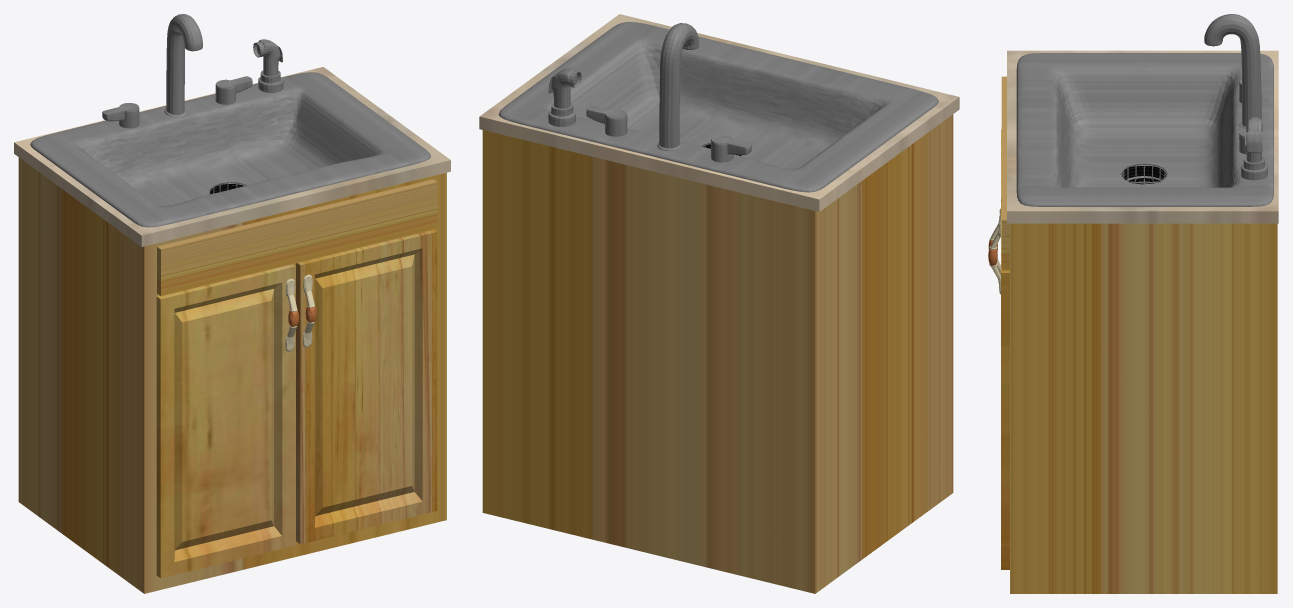
The model's file is sweethome3d-contributions-wood-cabinet-with-sink.glb.
3 renders of one model, left to right at view 1: azimuth 30°, elevation 25°; view 2: azimuth 150°, elevation 25°; view 3: azimuth 270°, elevation 25°, orthographic. The views are drawn at different scales.
Parts seen in each view (by area): view 1: PolyMesh_1_1, PolyMesh_1_6, PolyMesh_1_5, PolyMesh_2, Cube_3, PolyMesh_1_7, PolyMesh_1, PolyMesh_1_4, PolyMesh_2_1, PolyMesh_2_2; view 2: PolyMesh_1_1, PolyMesh_2, PolyMesh_1_7, PolyMesh_1, PolyMesh_1_4, PolyMesh_2_1, PolyMesh_2_2; view 3: PolyMesh_1_1, PolyMesh_2, PolyMesh_1_7, PolyMesh_1_6, PolyMesh_1, Cube_3, PolyMesh_1_4, Drain, PolyMesh_3, Draincover.
Part boxes in pixels (left/top/right/bottom): PolyMesh_1_1: left=18, top=157, right=446, bottom=593; PolyMesh_1_6: left=296, top=230, right=437, bottom=544; PolyMesh_1_5: left=156, top=264, right=295, bottom=578; PolyMesh_2: left=30, top=72, right=430, bottom=227; Cube_3: left=157, top=179, right=437, bottom=296; PolyMesh_1_7: left=14, top=67, right=450, bottom=246; PolyMesh_1: left=166, top=14, right=202, bottom=114; PolyMesh_1_4: left=253, top=39, right=282, bottom=76; PolyMesh_2_1: left=215, top=76, right=252, bottom=104; PolyMesh_2_2: left=102, top=103, right=139, bottom=128; PolyMesh_1_1: left=482, top=114, right=953, bottom=593; PolyMesh_2: left=498, top=22, right=938, bottom=192; PolyMesh_1_7: left=479, top=14, right=959, bottom=211; PolyMesh_1: left=659, top=23, right=698, bottom=148; PolyMesh_1_4: left=548, top=68, right=581, bottom=108; PolyMesh_2_1: left=586, top=105, right=627, bottom=136; PolyMesh_2_2: left=711, top=134, right=751, bottom=162; PolyMesh_1_1: left=1010, top=223, right=1277, bottom=593; PolyMesh_2: left=1016, top=53, right=1273, bottom=206; PolyMesh_1_7: left=1007, top=50, right=1278, bottom=223; PolyMesh_1_6: left=1001, top=201, right=1009, bottom=569; PolyMesh_1: left=1204, top=14, right=1261, bottom=126; Cube_3: left=1001, top=76, right=1009, bottom=270; PolyMesh_1_4: left=1246, top=117, right=1262, bottom=162; Drain: left=1122, top=166, right=1166, bottom=184; PolyMesh_3: left=1241, top=156, right=1267, bottom=180; Draincover: left=1120, top=163, right=1167, bottom=184.
Bounding box in the file's own units: 3.67 × 5.29 × 2.8.
Materials: 6 (4 with a texture image).
